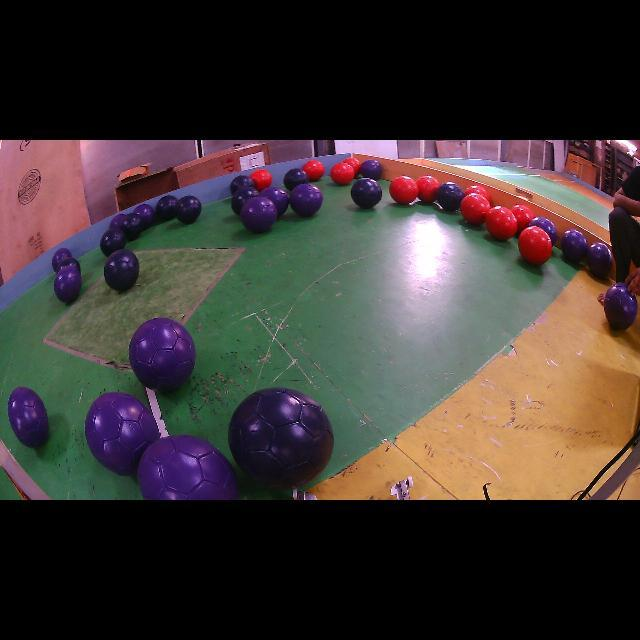B: (229, 388, 334, 488), (104, 249, 140, 291), (351, 178, 382, 209), (231, 186, 260, 215), (436, 182, 465, 211), (175, 195, 201, 224), (100, 228, 126, 256), (120, 212, 144, 241), (155, 195, 178, 221), (284, 169, 309, 191), (230, 175, 255, 195), (56, 256, 81, 274)
P: (138, 435, 239, 500), (85, 392, 160, 476), (129, 318, 195, 391), (8, 386, 49, 448), (604, 282, 638, 330), (240, 196, 278, 232), (289, 184, 322, 216), (54, 265, 81, 302), (260, 186, 289, 217), (561, 229, 588, 262), (588, 242, 612, 278), (529, 216, 558, 244), (134, 204, 155, 229), (360, 159, 382, 180), (52, 248, 71, 271), (109, 214, 126, 227)
R: (519, 226, 552, 265), (485, 206, 518, 240), (460, 194, 491, 225), (389, 176, 419, 204), (510, 205, 535, 232), (416, 175, 440, 202), (330, 162, 355, 185), (250, 169, 272, 191), (302, 160, 325, 181), (465, 185, 490, 201), (344, 158, 361, 176)
